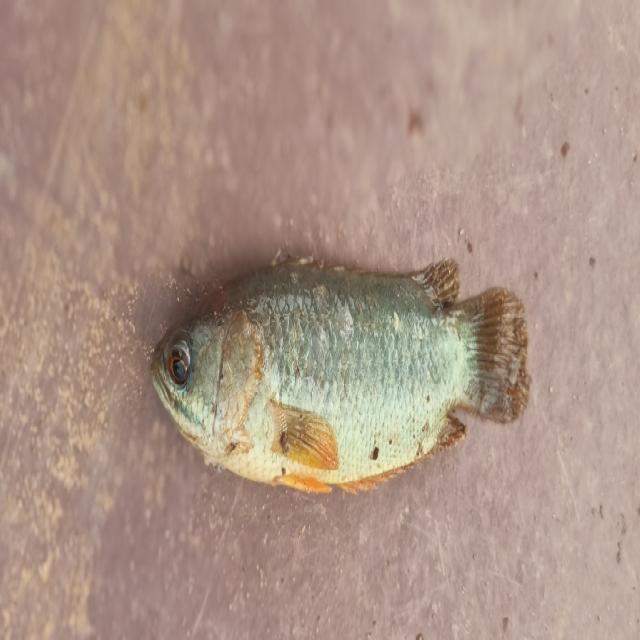Climbing-Perch: (130, 165, 557, 522)
